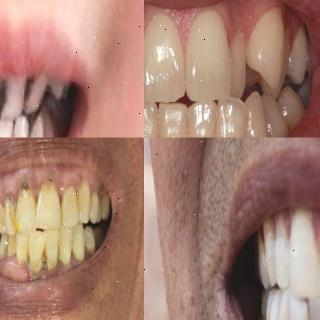calculus: (36, 250, 51, 288), (22, 172, 36, 198), (4, 186, 16, 216), (52, 243, 64, 266), (23, 250, 32, 272), (302, 310, 312, 320)
cavities: (22, 73, 32, 109), (0, 79, 8, 118), (45, 170, 57, 192)
maligned: (249, 6, 291, 78), (260, 31, 296, 98), (222, 29, 252, 95), (214, 95, 250, 137), (0, 69, 27, 123), (260, 88, 288, 138), (21, 69, 51, 115), (47, 74, 69, 111), (10, 108, 28, 138), (144, 101, 158, 138), (28, 116, 50, 138), (0, 112, 12, 137)
stains: (8, 207, 22, 235), (2, 234, 17, 259)
